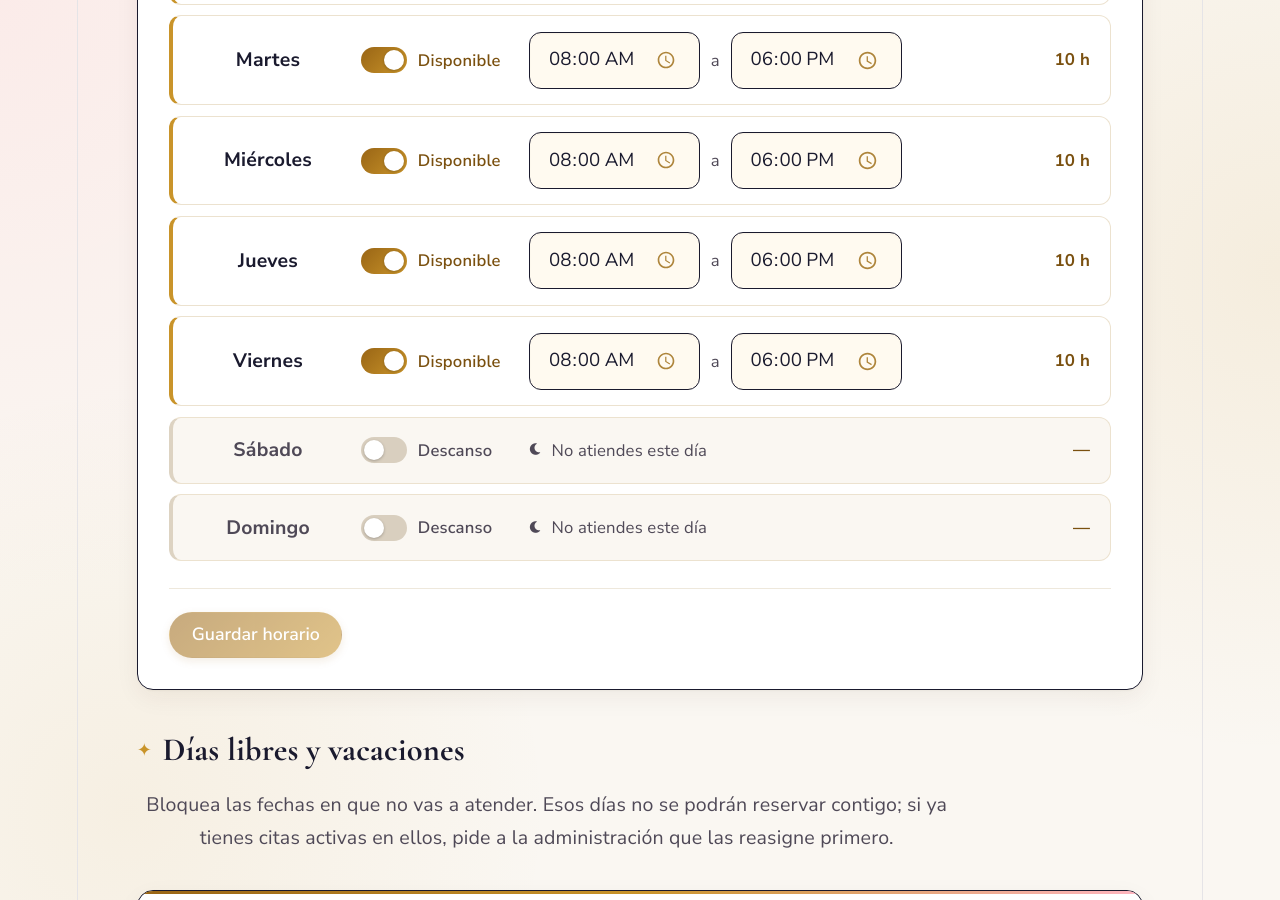
it: StylistSchedule › activar un día de descanso muestra sus horas
(page scrolled)
Click the switch named "Disponible Sábado" at (384, 450), box [361, 437, 407, 463]
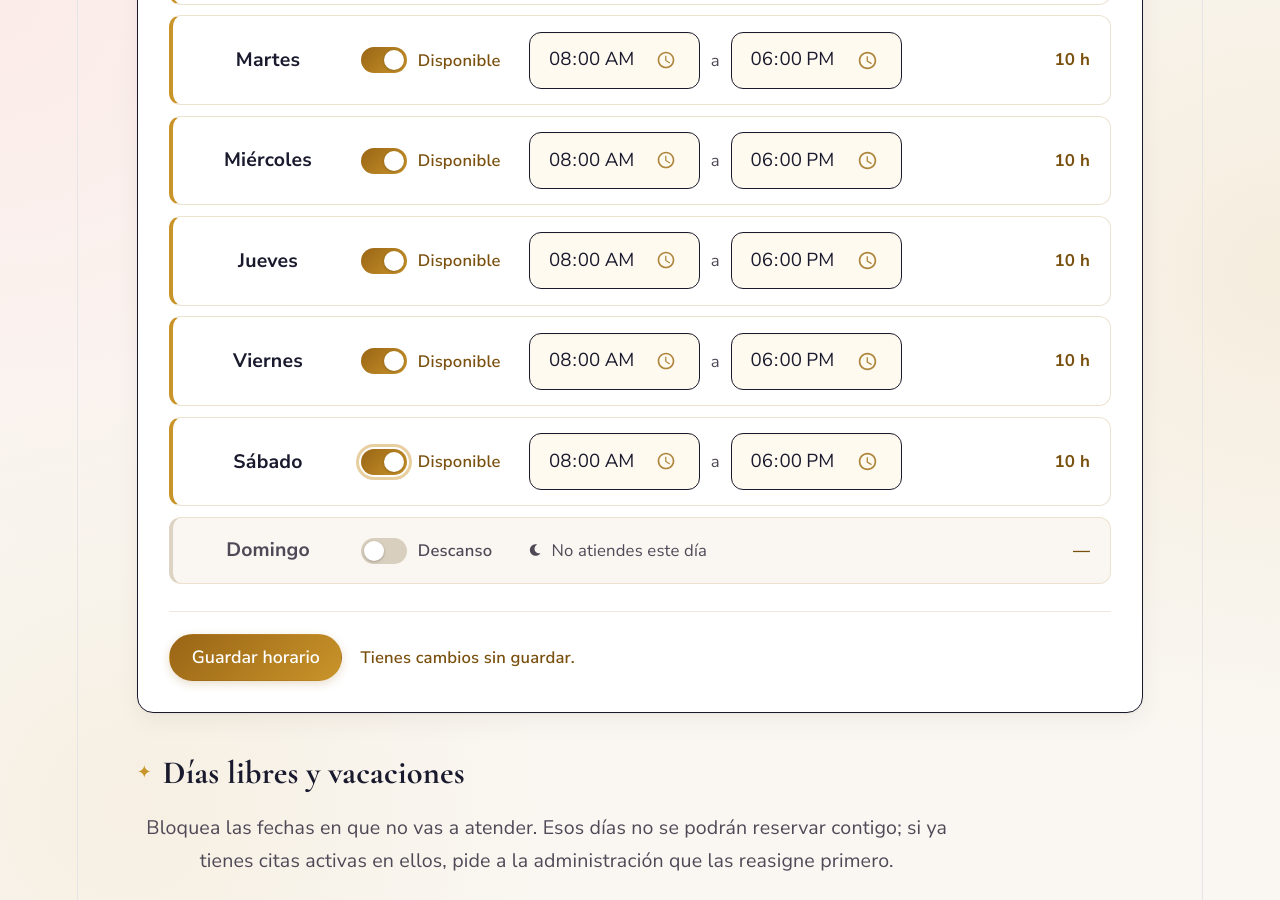
Check: the time field named "Sábado: desde" is shown, box [529, 433, 700, 490]
Check: the text "Tienes cambios sin guardar." is shown, box [360, 643, 575, 672]
